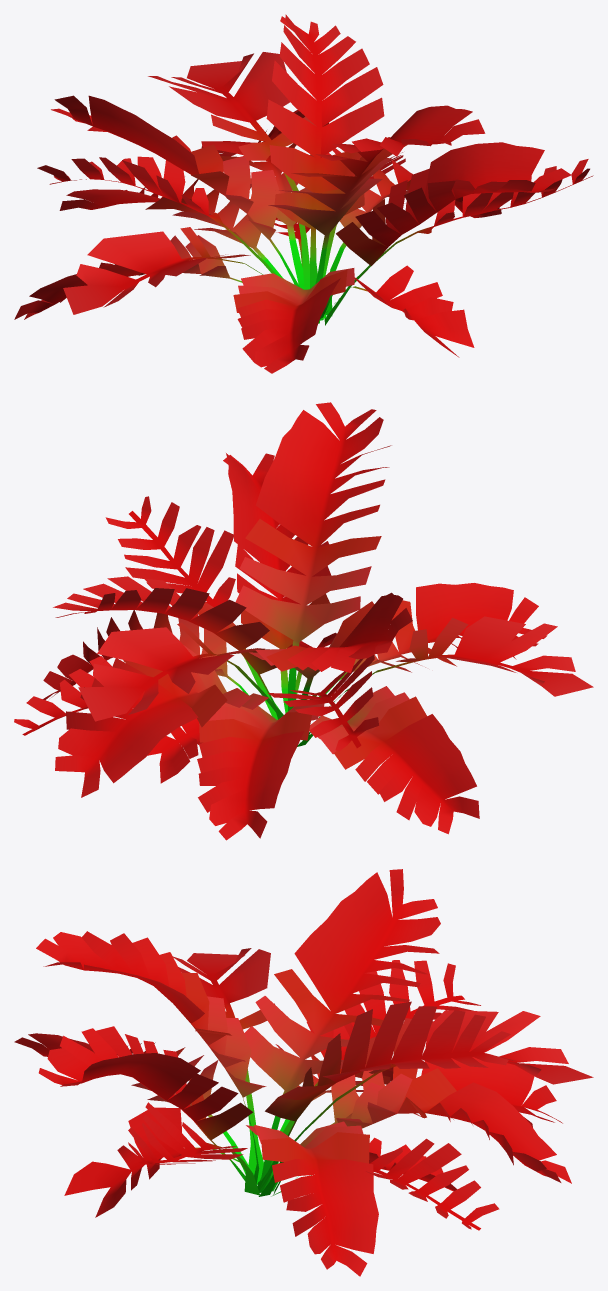
File: Var1_LOD1.fbx
3 renders of one model, top to bottom at view 1: azimuth 30°, elevation 25°; view 2: azimuth 150°, elevation 25°; view 3: azimuth 270°, elevation 25°, orthographic. The views are drawn at different scales.
Parts seen in each view (by area): view 1: _5925_Var1_LOD1; view 2: _5925_Var1_LOD1; view 3: _5925_Var1_LOD1.
Part boxes in pixels (bbox=[...]): _5925_Var1_LOD1: bbox=[14, 14, 593, 373]; _5925_Var1_LOD1: bbox=[14, 402, 593, 840]; _5925_Var1_LOD1: bbox=[14, 869, 593, 1276].
Size of the model in its own units: 181 by 87.84 by 174.
